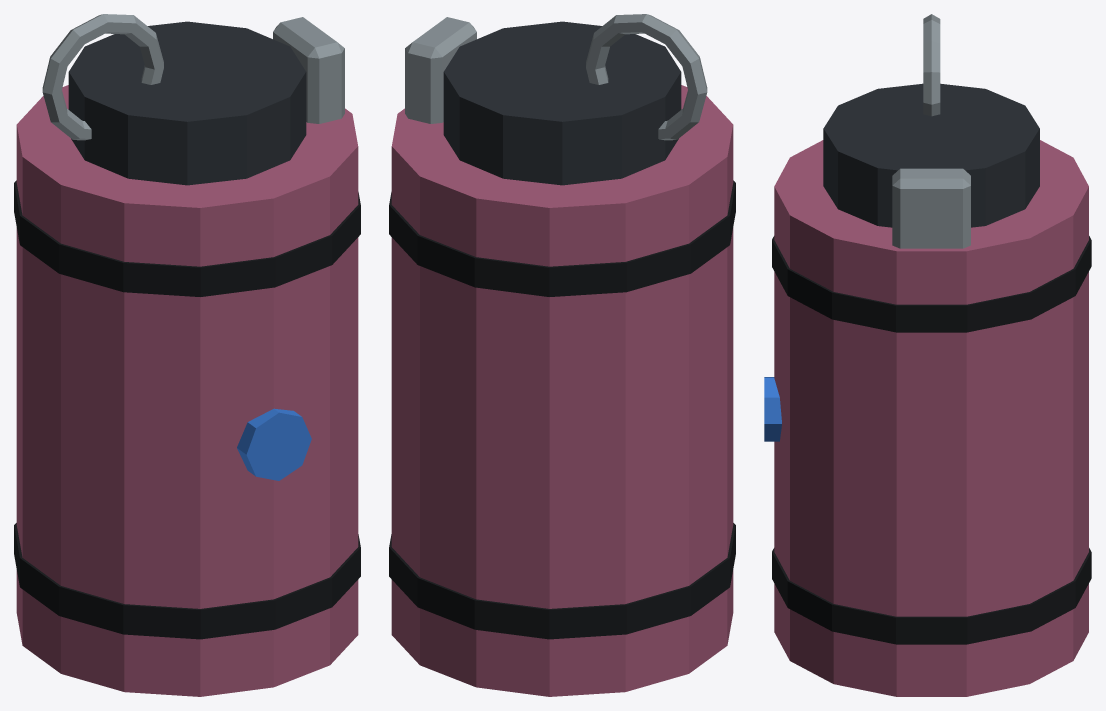
Rendered from Consumable_EMP.fbx.
The picture shows the model from 3 angles, left to right: view 1: azimuth 30°, elevation 25°; view 2: azimuth 150°, elevation 25°; view 3: azimuth 270°, elevation 25°; orthographic projection. The views are drawn at different scales.
Visible parts, largest first — view 1: Body.002, Top.002, Stripe.004, Stripe.005, Ring.002, Lever.002, Indicator; view 2: Body.002, Top.002, Stripe.004, Stripe.005, Ring.002, Lever.002; view 3: Body.002, Top.002, Stripe.005, Stripe.004, Lever.002, Ring.002, Indicator.
Boxes of the visible parts, x1,y1,x2,y2 form: Body.002: (16, 85, 358, 696); Top.002: (68, 21, 306, 185); Stripe.004: (14, 523, 360, 639); Stripe.005: (14, 180, 360, 296); Ring.002: (42, 14, 163, 140); Lever.002: (273, 17, 344, 123); Indicator: (237, 408, 311, 480); Body.002: (391, 85, 733, 696); Top.002: (443, 21, 681, 185); Stripe.004: (389, 523, 735, 639); Stripe.005: (389, 180, 735, 296); Ring.002: (586, 14, 707, 140); Lever.002: (405, 17, 476, 123); Body.002: (774, 140, 1088, 696); Top.002: (823, 83, 1039, 227); Stripe.005: (772, 236, 1091, 332); Stripe.004: (772, 548, 1091, 644); Lever.002: (892, 168, 970, 248); Ring.002: (923, 14, 940, 116); Indicator: (764, 377, 781, 441).
Size of the model in its own units: 0.0634 by 0.129 by 0.0665.
